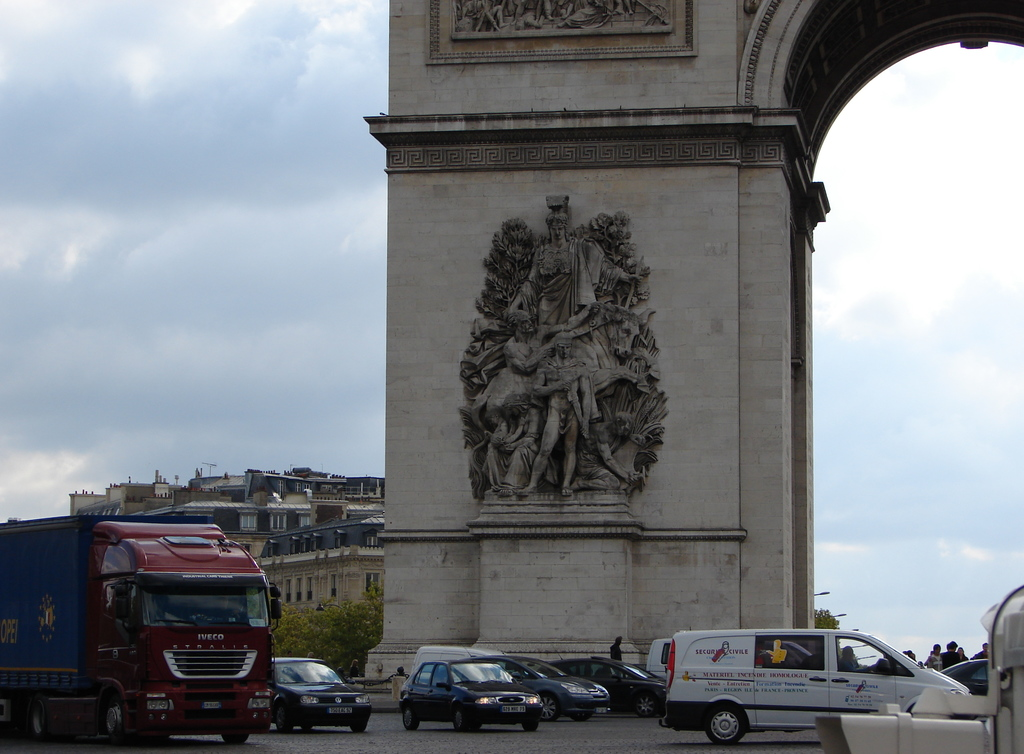car: (653, 617, 978, 732), (396, 651, 552, 741), (254, 632, 374, 742), (507, 650, 621, 730), (574, 649, 667, 720)
truck: (1, 493, 294, 754)
